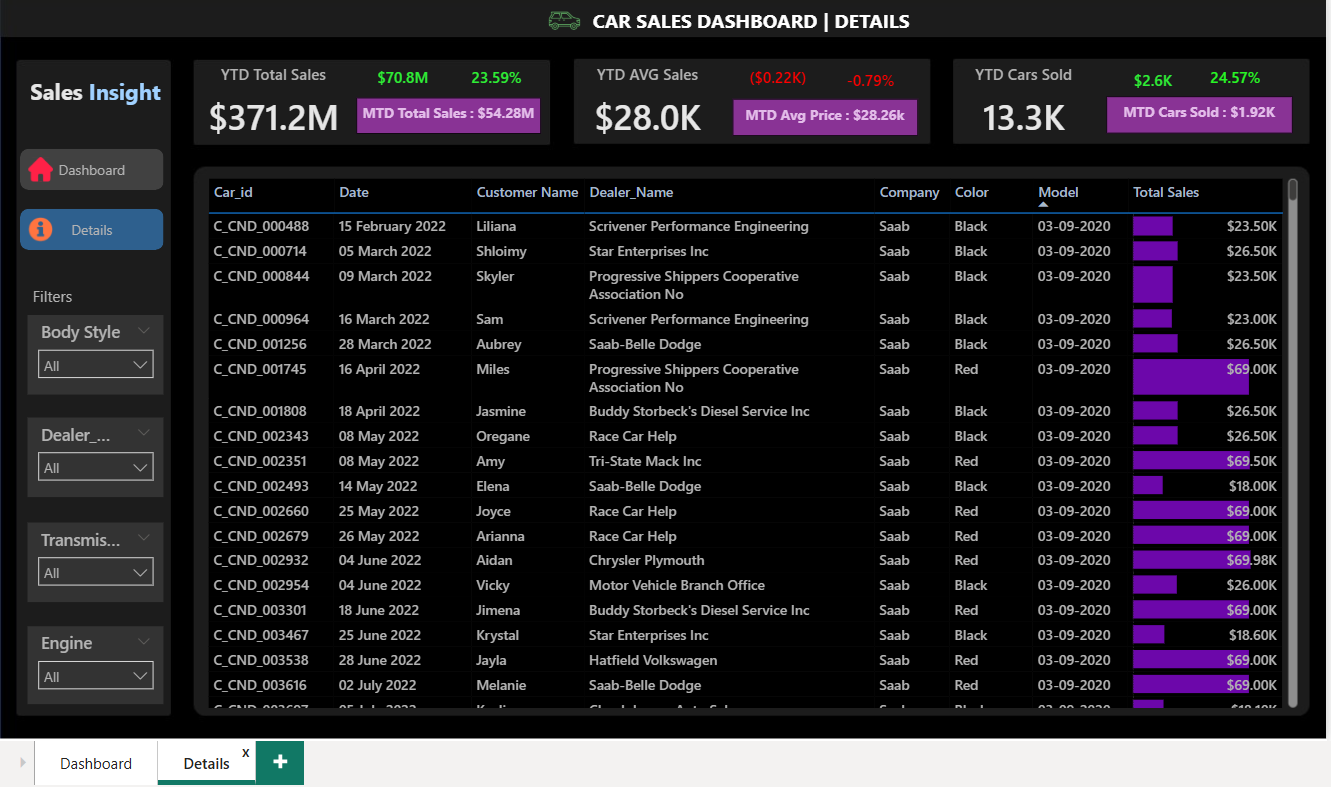

Layout of this report page (visuals, bound fields, positions):
{"tool":"powerbi","page":{"name":"Details","canvas":[1280,720],"ordinal":1},"visuals":[{"type":"card","title":"YTD Total Sales","fields":{"Values":["car_data.YTD Total Sales"]},"box":[184.7,66.4,158.7,82.2],"z":0},{"type":"card","fields":{"Values":["car_data.Sales Difference"]},"box":[343.8,56.7,90.5,50.7],"z":1000},{"type":"card","fields":{"Values":["car_data.YOY Sales Growth"]},"box":[434.3,56.7,90.5,50.7],"z":2000},{"type":"card","fields":{"Values":["car_data.MTD KPI"]},"box":[343.8,98.9,178.6,35],"z":3000},{"type":"textbox","box":[567,7.2,354.7,35],"z":4000},{"type":"image","box":[522.4,0,44.6,49.5],"z":5000},{"type":"card","title":"YTD AVG  Sales","fields":{"Values":["car_data.YTD Avg Prica"]},"box":[545.3,66.4,159.3,82],"z":6000},{"type":"card","fields":{"Values":["car_data.Avg Price diff"]},"box":[705.8,56.7,90.5,50.7],"z":7000},{"type":"card","fields":{"Values":["car_data.YOY Avg Price Growth"]},"box":[795,59.2,90.9,50.5],"z":8000},{"type":"card","fields":{"Values":["car_data.MTD Avg KPI"]},"box":[707,99.6,178.9,36.1],"z":9000},{"type":"card","title":"YTD Cars Sold","fields":{"Values":["car_data.YTD Cars Sold"]},"box":[908.4,66.4,159.3,82],"z":10000},{"type":"card","fields":{"Values":["car_data.Cars sold Diff"]},"box":[1067.7,59.1,90.5,50.7],"z":11000},{"type":"card","fields":{"Values":["car_data.YOY Cars sold Groth"]},"box":[1147.3,56.7,90.5,50.7],"z":12000},{"type":"card","fields":{"Values":["car_data.MTD Cars KPI"]},"box":[1067.7,97.7,179.8,36.2],"z":13000},{"type":"textbox","box":[18.8,73.6,145.7,44.7],"z":14000},{"type":"slicer","fields":{"Values":["car_data.Body Style"]},"box":[26,308.8,131.3,76.5],"z":15000},{"type":"slicer","fields":{"Values":["car_data.Dealer_Name"]},"box":[26,408.3,131.3,76.5],"z":16000},{"type":"slicer","fields":{"Values":["car_data.Transmission"]},"box":[26,509.3,131.3,76.5],"z":17000},{"type":"slicer","fields":{"Values":["car_data.Engine"]},"box":[26,608.8,131.3,75],"z":18000},{"type":"textbox","box":[26.5,275.1,138.7,33.8],"z":19000},{"type":"tableEx","fields":{"Values":["car_data.Car_id","car_data.Date","car_data.Customer Name","car_data.Dealer_Name","car_data.Company","car_data.Color","car_data.Model","Sum(car_data.Price ($))"]},"box":[195.4,172.5,1061.7,520],"z":20000},{"type":"actionButton","box":[19.3,148.4,138.7,39.8],"z":20001},{"type":"actionButton","box":[19.3,206.3,138.7,39.8],"z":20002}]}

Visuals, with their boxes on the page's 1280x720 design canvas (x1, y1, x2, y2). These are canvas units, not pixel positions in the 1331x787 screenshot, which may show the page scaled, cropped or inside an application window:
"YTD Total Sales" card: pyautogui.locateOnScreen(185, 66, 343, 149)
card - car_data.Sales Difference: pyautogui.locateOnScreen(344, 57, 434, 107)
card - car_data.YOY Sales Growth: pyautogui.locateOnScreen(434, 57, 525, 107)
card - car_data.MTD KPI: pyautogui.locateOnScreen(344, 99, 522, 134)
textbox: pyautogui.locateOnScreen(567, 7, 922, 42)
image: pyautogui.locateOnScreen(522, 0, 567, 50)
"YTD AVG  Sales" card: pyautogui.locateOnScreen(545, 66, 705, 148)
card - car_data.Avg Price diff: pyautogui.locateOnScreen(706, 57, 796, 107)
card - car_data.YOY Avg Price Growth: pyautogui.locateOnScreen(795, 59, 886, 110)
card - car_data.MTD Avg KPI: pyautogui.locateOnScreen(707, 100, 886, 136)
"YTD Cars Sold" card: pyautogui.locateOnScreen(908, 66, 1068, 148)
card - car_data.Cars sold Diff: pyautogui.locateOnScreen(1068, 59, 1158, 110)
card - car_data.YOY Cars sold Groth: pyautogui.locateOnScreen(1147, 57, 1238, 107)
card - car_data.MTD Cars KPI: pyautogui.locateOnScreen(1068, 98, 1248, 134)
textbox: pyautogui.locateOnScreen(19, 74, 164, 118)
slicer - car_data.Body Style: pyautogui.locateOnScreen(26, 309, 157, 385)
slicer - car_data.Dealer_Name: pyautogui.locateOnScreen(26, 408, 157, 485)
slicer - car_data.Transmission: pyautogui.locateOnScreen(26, 509, 157, 586)
slicer - car_data.Engine: pyautogui.locateOnScreen(26, 609, 157, 684)
textbox: pyautogui.locateOnScreen(26, 275, 165, 309)
tableEx - car_data.Car_id x car_data.Date: pyautogui.locateOnScreen(195, 172, 1257, 692)
actionButton: pyautogui.locateOnScreen(19, 148, 158, 188)
actionButton: pyautogui.locateOnScreen(19, 206, 158, 246)
